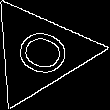O_SE: (3, 22, 76, 83)
